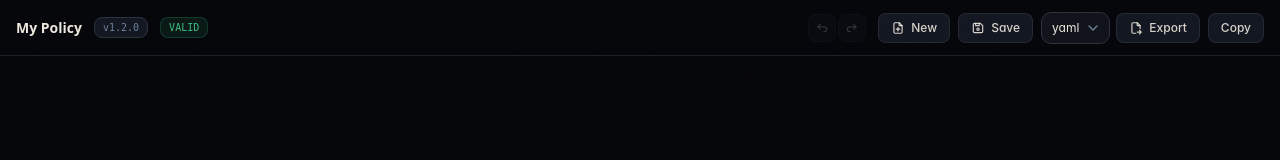
Test: WorkbenchTopbar › cancels name change on Escape key
Enter edit mode
Click the button "My Policy" at (49, 28), box [16,18,82,38]
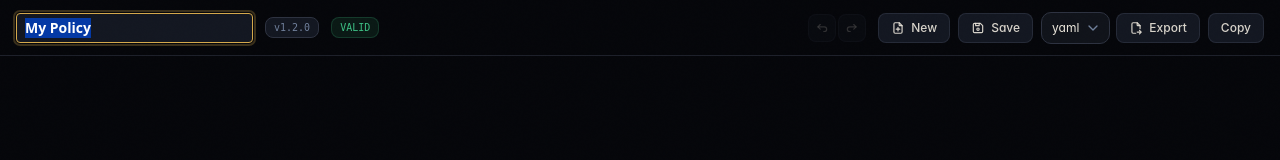
Type something then escape
Replace the text in the field showing "My Policy" with "Abandoned Name" at (134, 28), box [16,12,253,42]
Then press Escape
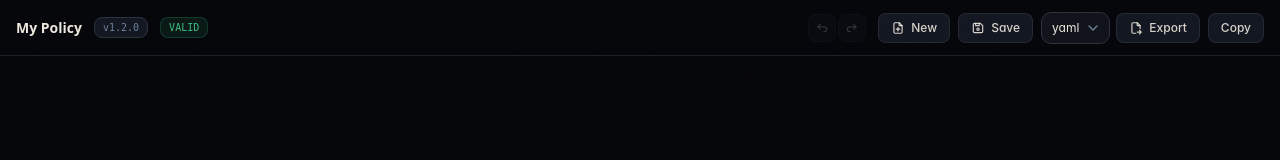
Check: the button "My Policy" is shown, box [16,18,82,38]
